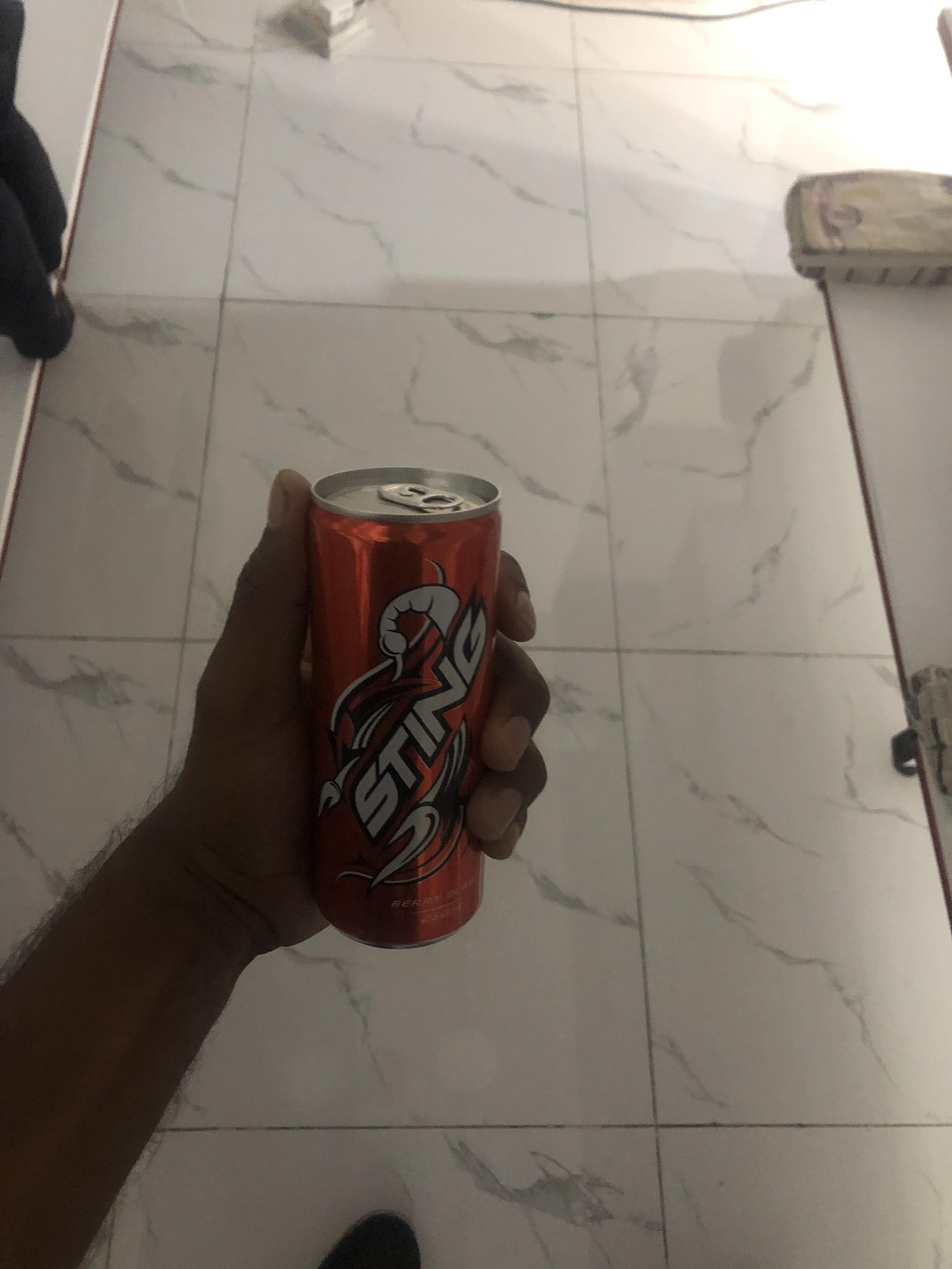tin can: (304, 459, 508, 954)
